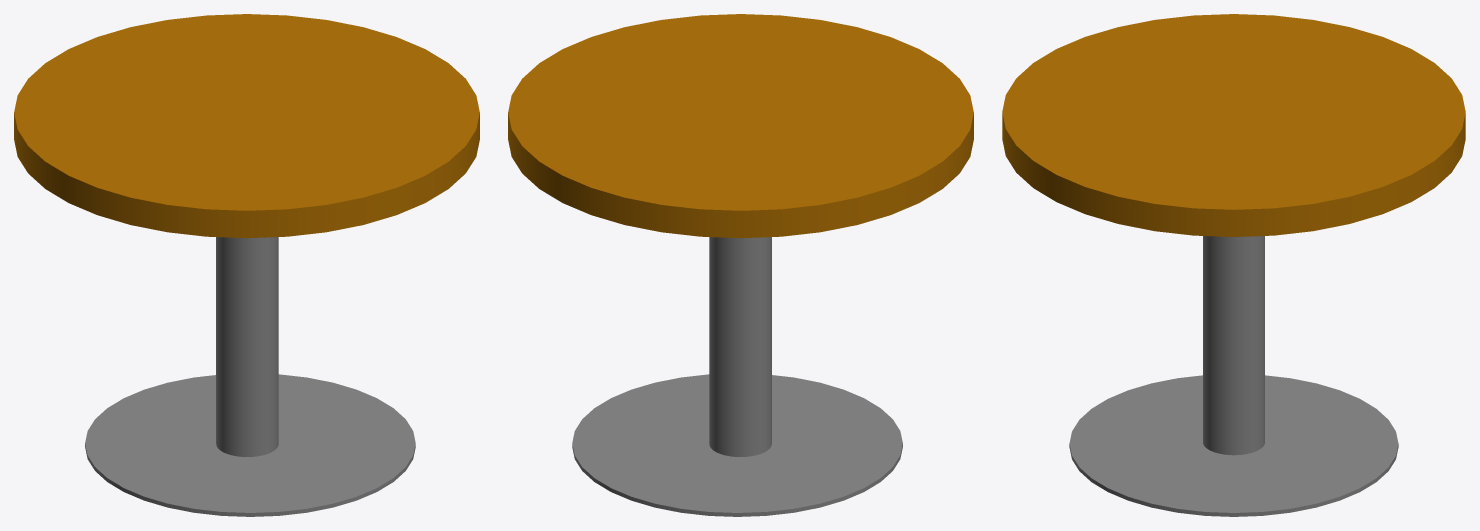
The model's file is hospital_small_table.fbx.
3 views of the same model, side by side, from view 1: azimuth 30°, elevation 25°; view 2: azimuth 150°, elevation 25°; view 3: azimuth 270°, elevation 25° (orthographic).
Parts seen in each view (by area): view 1: Cylinder, Cylinder_2, Cylinder_1; view 2: Cylinder, Cylinder_2, Cylinder_1; view 3: Cylinder, Cylinder_2, Cylinder_1.
Boxes of the visible parts, <box> form: Cylinder: <box>14,14,479,238</box>; Cylinder_2: <box>85,374,415,516</box>; Cylinder_1: <box>216,237,278,456</box>; Cylinder: <box>508,14,973,238</box>; Cylinder_2: <box>572,374,902,516</box>; Cylinder_1: <box>709,237,771,456</box>; Cylinder: <box>1002,14,1465,236</box>; Cylinder_2: <box>1069,375,1398,516</box>; Cylinder_1: <box>1203,236,1264,455</box>.
Bounding box in the file's own units: 141 × 112 × 141.
